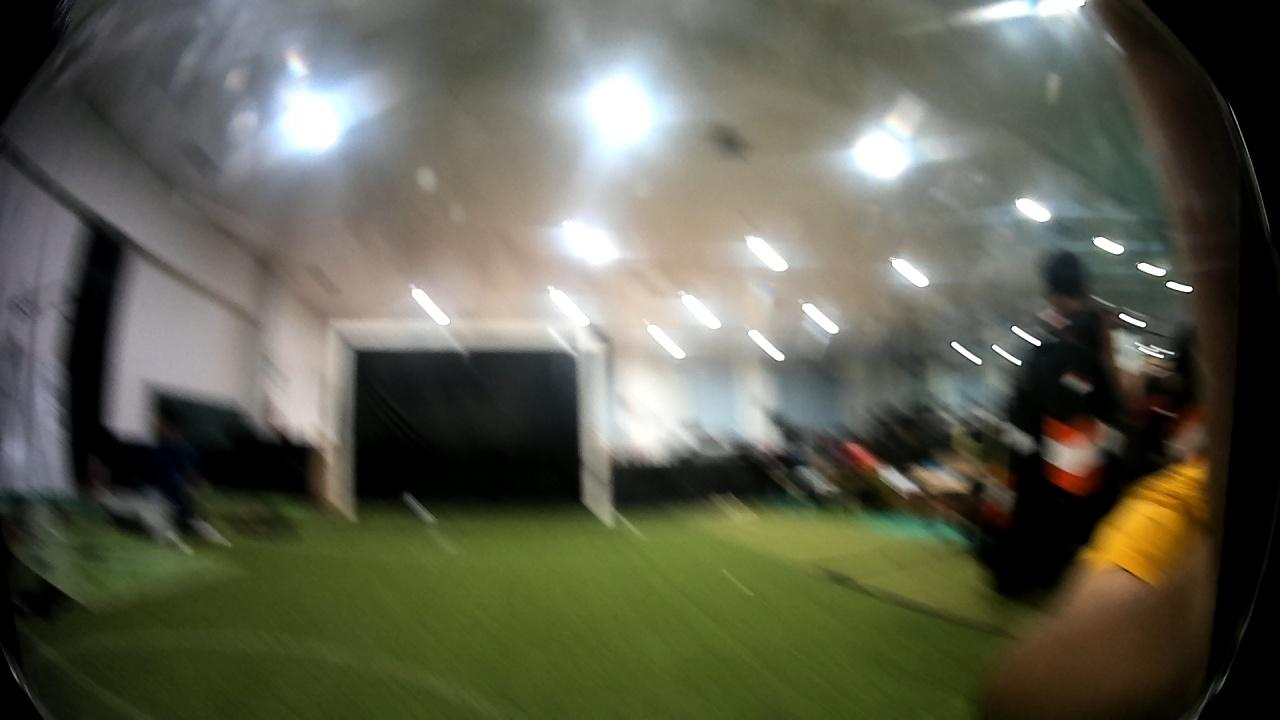ball: (394, 488, 435, 522)
